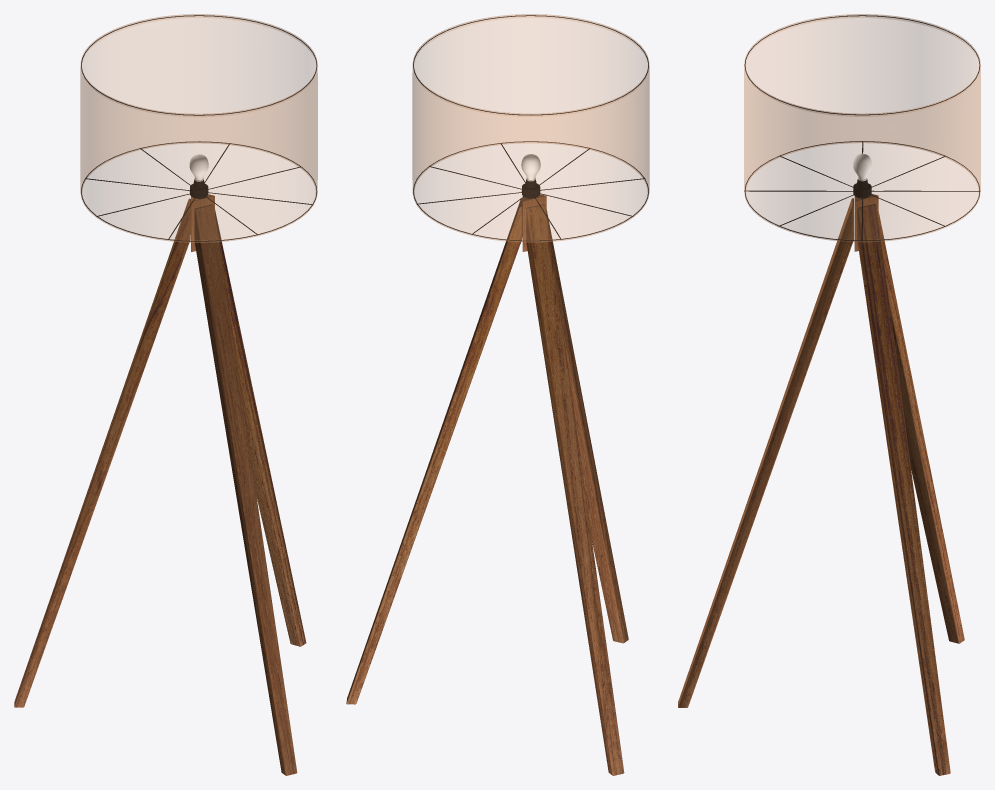
File: modern_tripod_floor_lamp.obj
3 views of the same model, side by side, from view 1: azimuth 30°, elevation 25°; view 2: azimuth 150°, elevation 25°; view 3: azimuth 270°, elevation 25° (orthographic).
Parts seen in each view (by area): view 1: obj3, obj7, obj1; view 2: obj3, obj7, obj1; view 3: obj3, obj7, obj1.
Part boxes in pixels (<box>): obj3: <box>80,14,317,242</box>; obj7: <box>14,198,306,775</box>; obj1: <box>81,15,317,241</box>; obj3: <box>412,14,649,242</box>; obj7: <box>346,198,628,775</box>; obj1: <box>413,15,648,241</box>; obj3: <box>744,14,980,241</box>; obj7: <box>678,198,964,775</box>; obj1: <box>744,15,980,240</box>.
Size of the model in its own units: 0.691 by 1.49 by 0.6385.
Materials: 6 (1 with a texture image).
